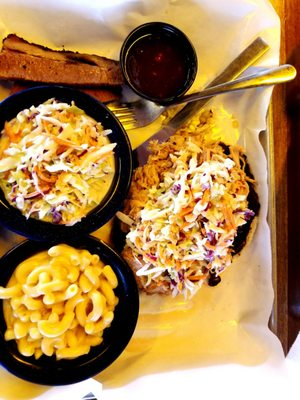salad: (112, 64, 295, 153)
sushi: (0, 233, 140, 385), (0, 86, 134, 243)
